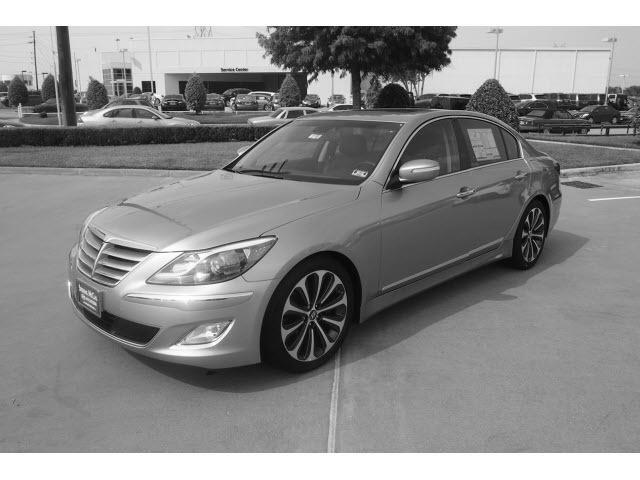car: (68, 111, 561, 378)
